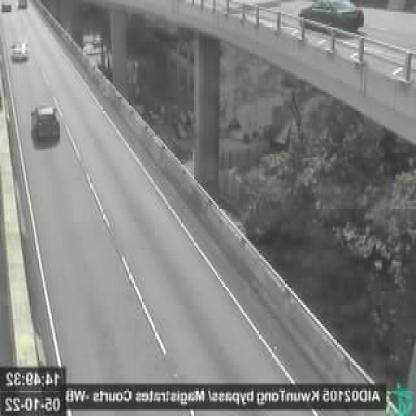Car: (30, 104, 60, 144), (12, 42, 30, 60)
